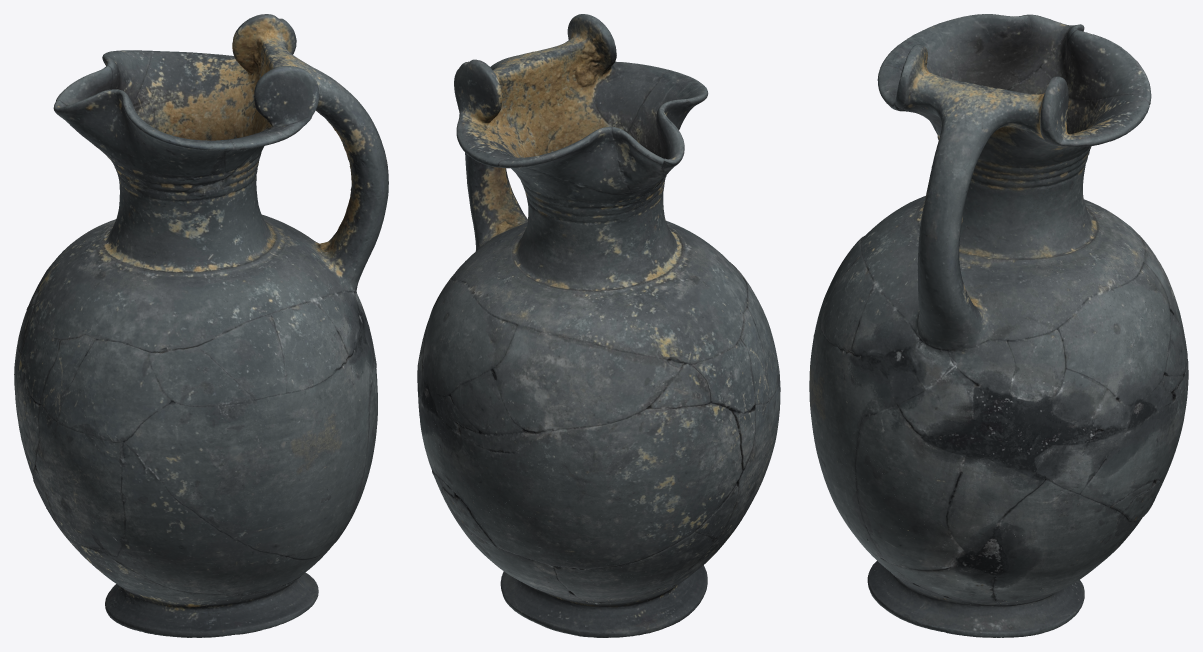
Rendered from bucchero_oinochoe_con_bocca_trilobata.glb.
3 renders of one model, left to right at view 1: azimuth 30°, elevation 25°; view 2: azimuth 150°, elevation 25°; view 3: azimuth 270°, elevation 25°, orthographic. The views are drawn at different scales.
Visible parts, largest first — view 1: Object_2, Object_4, Object_3, Object_5; view 2: Object_2, Object_4, Object_3, Object_5; view 3: Object_2, Object_3, Object_4, Object_5.
Part boxes in pixels (left/top/right/bottom): Object_2: left=14, top=16, right=388, bottom=597; Object_4: left=17, top=37, right=388, bottom=636; Object_3: left=40, top=14, right=388, bottom=637; Object_5: left=38, top=24, right=386, bottom=637; Object_2: left=417, top=14, right=780, bottom=592; Object_4: left=452, top=46, right=769, bottom=637; Object_3: left=417, top=20, right=737, bottom=637; Object_5: left=432, top=47, right=708, bottom=637; Object_2: left=809, top=16, right=1188, bottom=574; Object_3: left=810, top=17, right=1182, bottom=632; Object_4: left=832, top=14, right=1175, bottom=637; Object_5: left=853, top=14, right=1175, bottom=637.
Size of the model in its own units: 0.1671 by 0.2763 by 0.1646.
Materials: 2 (2 with a texture image).
